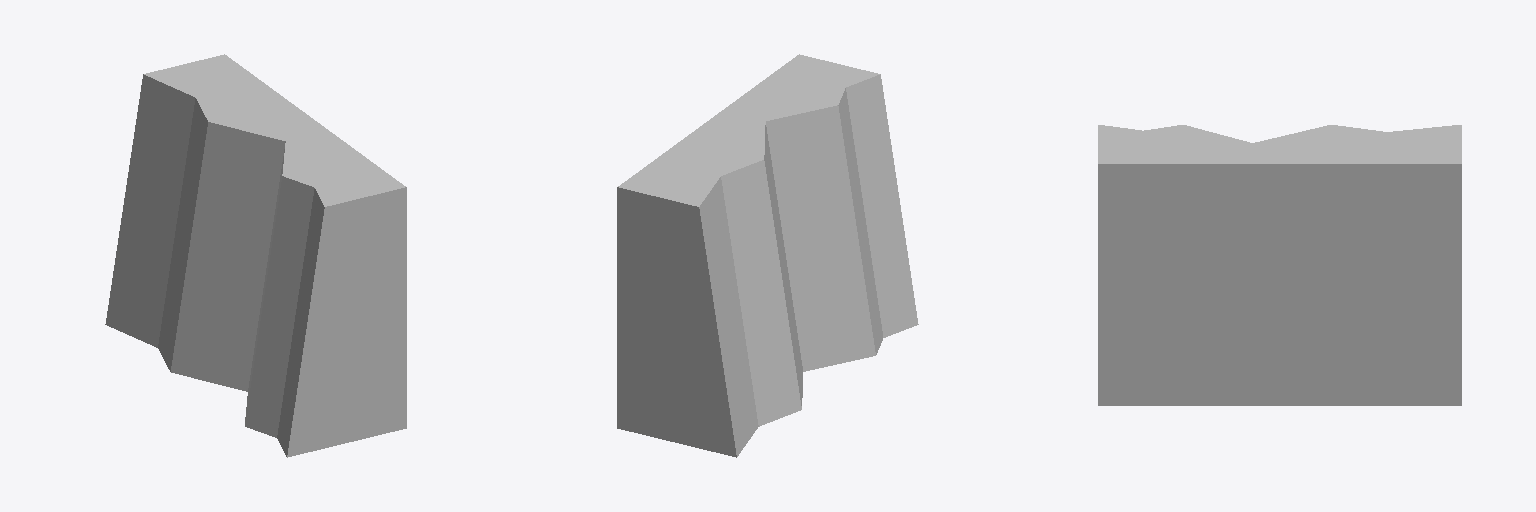
Rendered from Brown_Cliff_Bottom_01.obj.
3 renders of one model, left to right at view 1: azimuth 30°, elevation 25°; view 2: azimuth 150°, elevation 25°; view 3: azimuth 270°, elevation 25°, orthographic.
Visible parts, largest first — view 1: Mesh1_Brown_Cliff_Bottom_Model; view 2: Mesh1_Brown_Cliff_Bottom_Model; view 3: Mesh1_Brown_Cliff_Bottom_Model.
Boxes of the visible parts, x1,y1,x2,y2 form: Mesh1_Brown_Cliff_Bottom_Model: [105, 54, 406, 457]; Mesh1_Brown_Cliff_Bottom_Model: [617, 54, 918, 457]; Mesh1_Brown_Cliff_Bottom_Model: [1098, 125, 1461, 405].
Bounding box in the file's own units: 1.14 × 2.2 × 3.